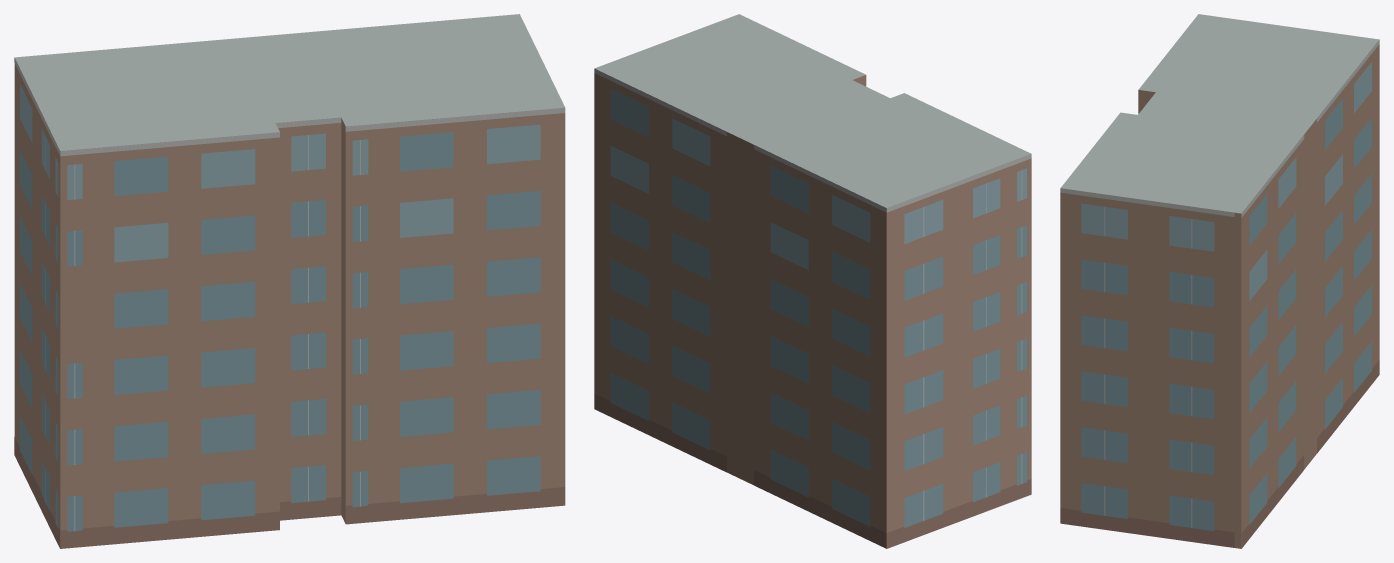
The model's file is survey-upis-32698398.glb.
3 renders of one model, left to right at view 1: azimuth 30°, elevation 25°; view 2: azimuth 150°, elevation 25°; view 3: azimuth 270°, elevation 25°, orthographic. The views are drawn at different scales.
Visible parts, largest first — view 1: survey-upis-32698398.tmp; view 2: survey-upis-32698398.tmp; view 3: survey-upis-32698398.tmp.
Boxes of the visible parts, x1=… form: survey-upis-32698398.tmp: x1=14, y1=14, x2=565, y2=548; survey-upis-32698398.tmp: x1=594, y1=14, x2=1031, y2=548; survey-upis-32698398.tmp: x1=1060, y1=14, x2=1379, y2=548.
Size of the model in its own units: 23.36 by 18.3 by 15.79.
